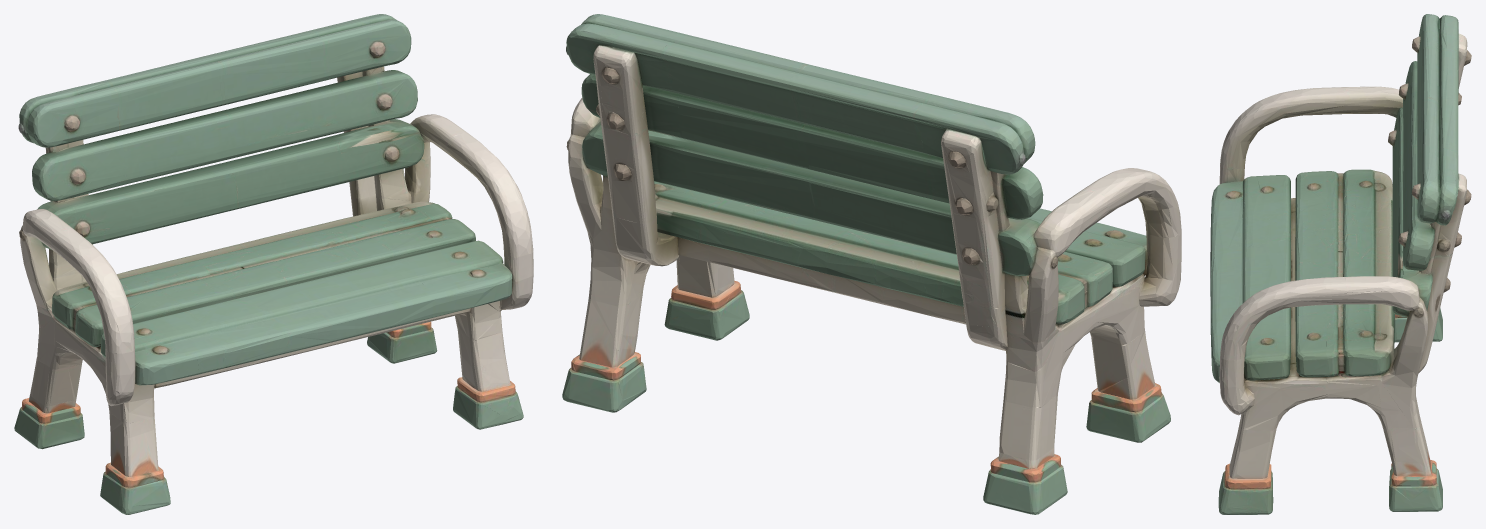
File: 09-bench.glb
3 renders of one model, left to right at view 1: azimuth 30°, elevation 25°; view 2: azimuth 150°, elevation 25°; view 3: azimuth 270°, elevation 25°, orthographic. The views are drawn at different scales.
Bounding box in the file's own units: 0.9998 × 0.7404 × 0.5435.
1 material, 1 textured.
